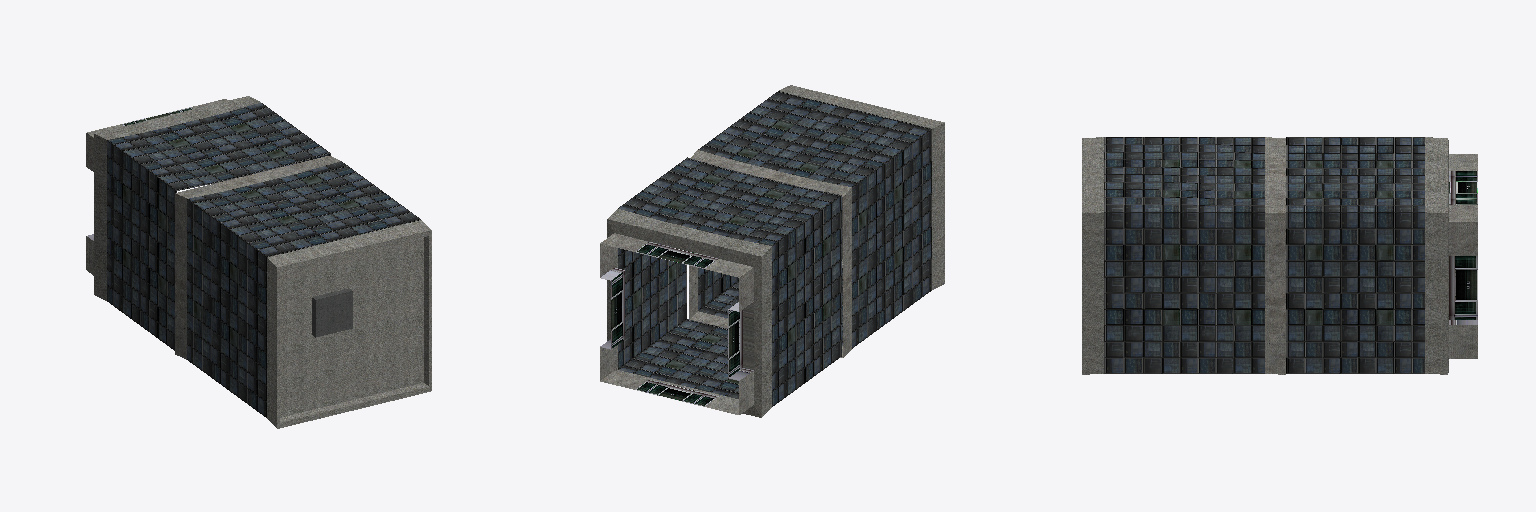
3 views of the same model, side by side, from view 1: azimuth 30°, elevation 25°; view 2: azimuth 150°, elevation 25°; view 3: azimuth 270°, elevation 25° (orthographic).
Parts seen in each view (by area): view 1: Object53; view 2: Object53; view 3: Object53.
Part boxes in pixels (x1,y1,x2,y2): Object53: (86,96,431,428); Object53: (600,85,944,417); Object53: (1082,137,1477,374).
Bounding box in the file's own units: 40.36 × 40.42 × 89.04.
Materials: 4 (4 with a texture image).